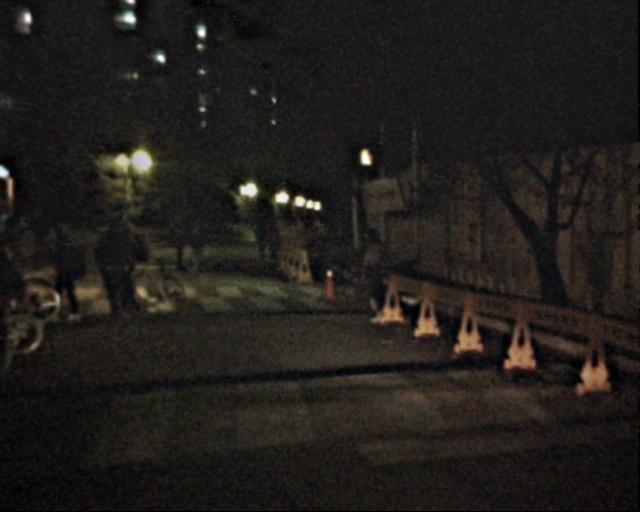person: (3, 215, 48, 315), (101, 216, 140, 312), (353, 226, 392, 320), (51, 221, 88, 312), (165, 213, 191, 276), (182, 214, 207, 275), (249, 220, 268, 267), (261, 221, 279, 266)
